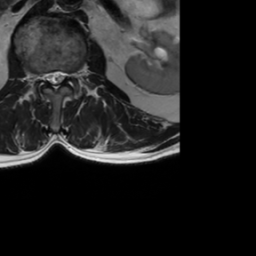CCS_normal: (52, 65, 59, 95)
LFS_stenosis: (66, 66, 74, 85)
LLS_stenosis: (59, 66, 66, 85)
RFS_stenosis: (37, 67, 45, 85)
RLS_normal: (45, 66, 52, 86)
